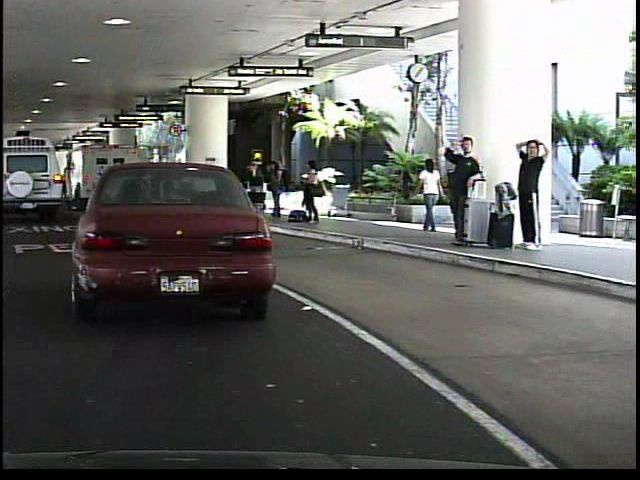person: (439, 134, 483, 248), (514, 128, 552, 250), (414, 154, 444, 235), (299, 157, 325, 224)
